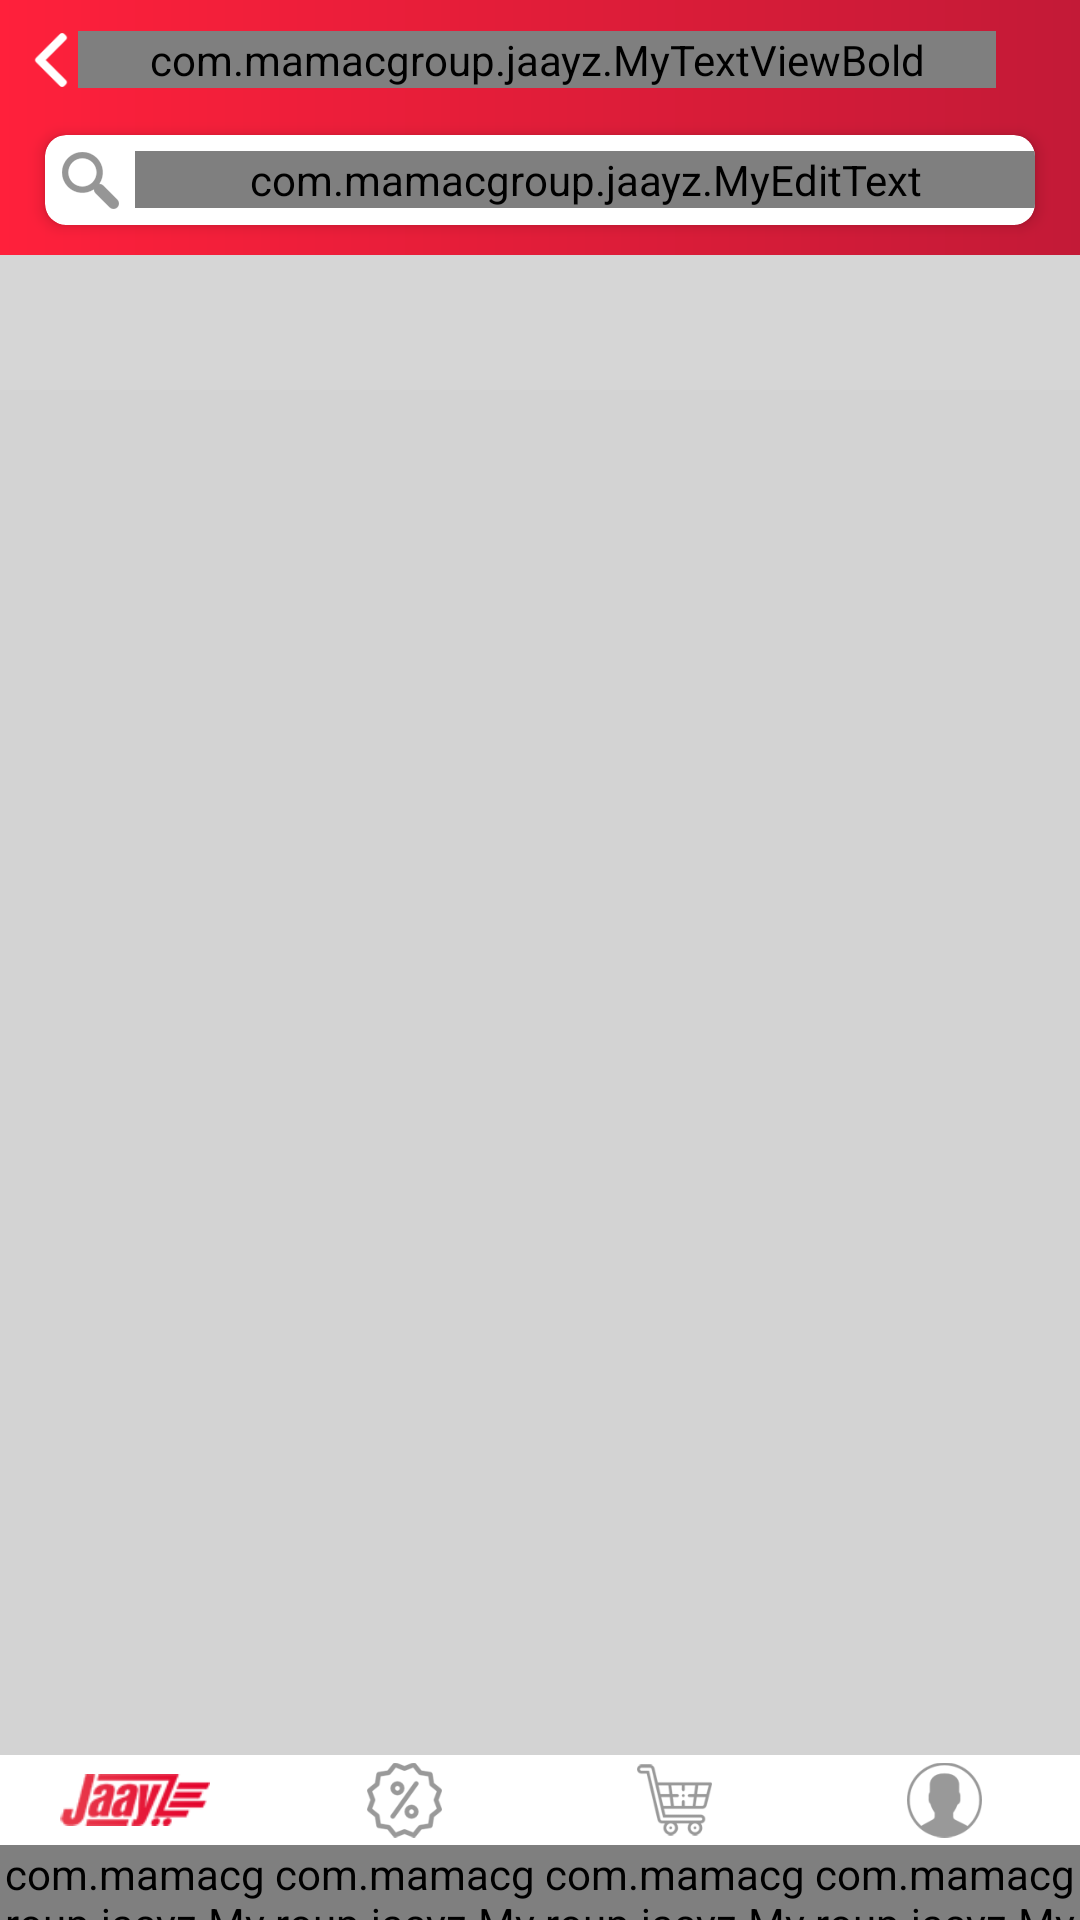

Icons on this 1080×1920 Android screen, each with its box as (x1, y1, x2, y2):
back: (35, 33, 67, 87)
cart: (637, 1764, 712, 1836)
offer: (367, 1763, 442, 1838)
search: (62, 152, 119, 209)
user: (907, 1763, 982, 1838)
